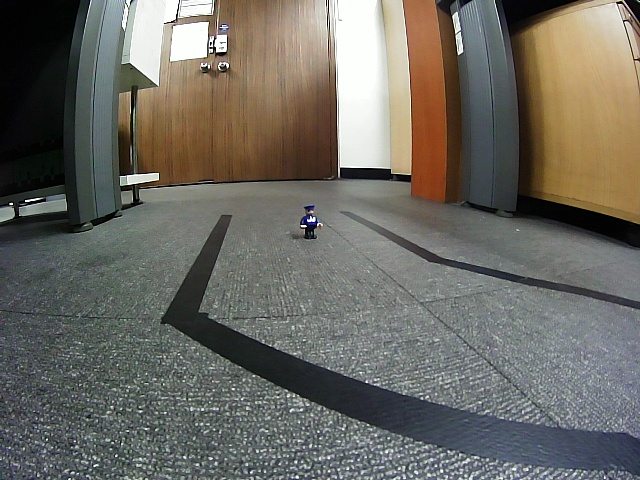person: (300, 204, 323, 239)
